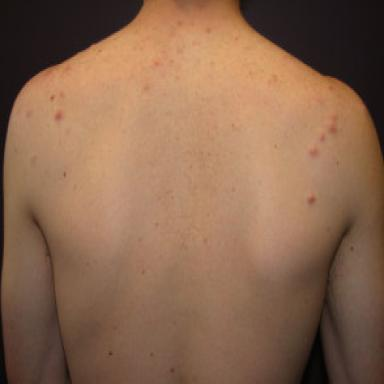acne: (308, 145, 318, 155), (307, 194, 316, 204), (268, 74, 277, 84), (55, 110, 63, 120), (329, 112, 337, 122), (328, 123, 335, 132), (319, 131, 325, 141), (26, 109, 33, 117)
